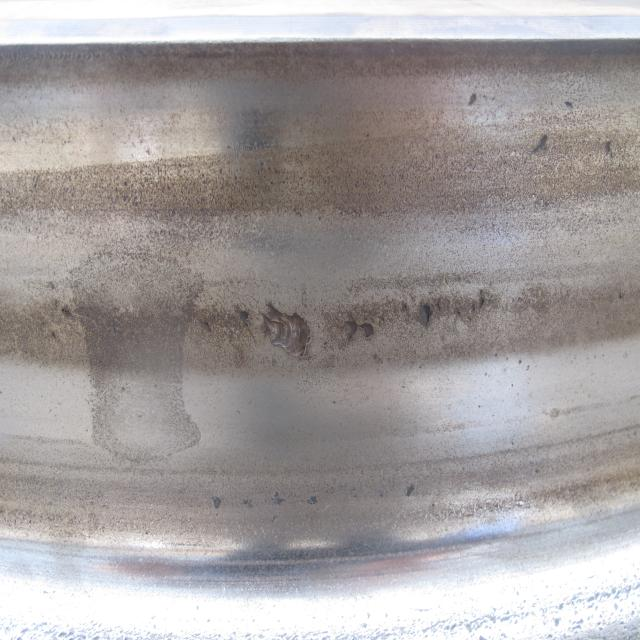Blue hole: (265, 302, 312, 359), (534, 136, 548, 154), (605, 143, 613, 157), (565, 102, 575, 111), (470, 96, 476, 106)
Peeling: (378, 298, 494, 333), (346, 321, 375, 343), (200, 320, 214, 335), (241, 310, 250, 328)
